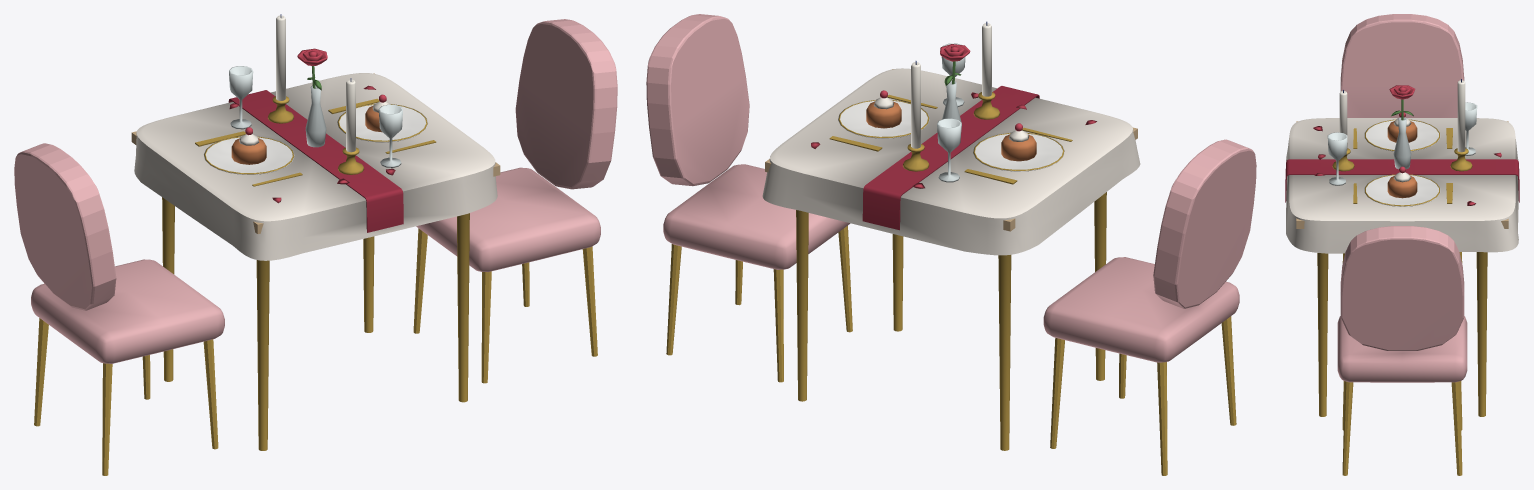
Rendered from candlelitTable.glb.
3 renders of one model, left to right at view 1: azimuth 30°, elevation 25°; view 2: azimuth 150°, elevation 25°; view 3: azimuth 270°, elevation 25°, orthographic. The views are drawn at different scales.
Visible parts, largest first — view 1: body; view 2: body; view 3: body.
Part boxes in pixels (x1=…): body: x1=14, y1=14, x2=617, y2=475; body: x1=646, y1=14, x2=1256, y2=475; body: x1=1285, y1=14, x2=1519, y2=475.
Size of the model in its own units: 1.8 by 1.1 by 0.795.
